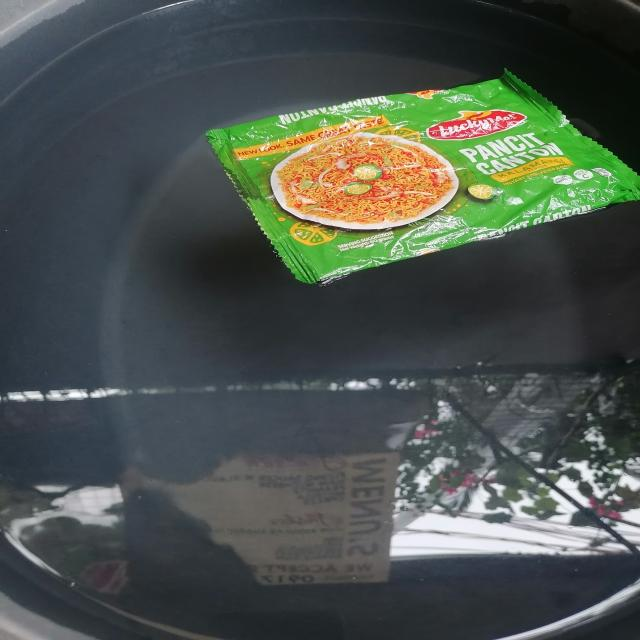Plastic Wrapper: (207, 70, 640, 284)
